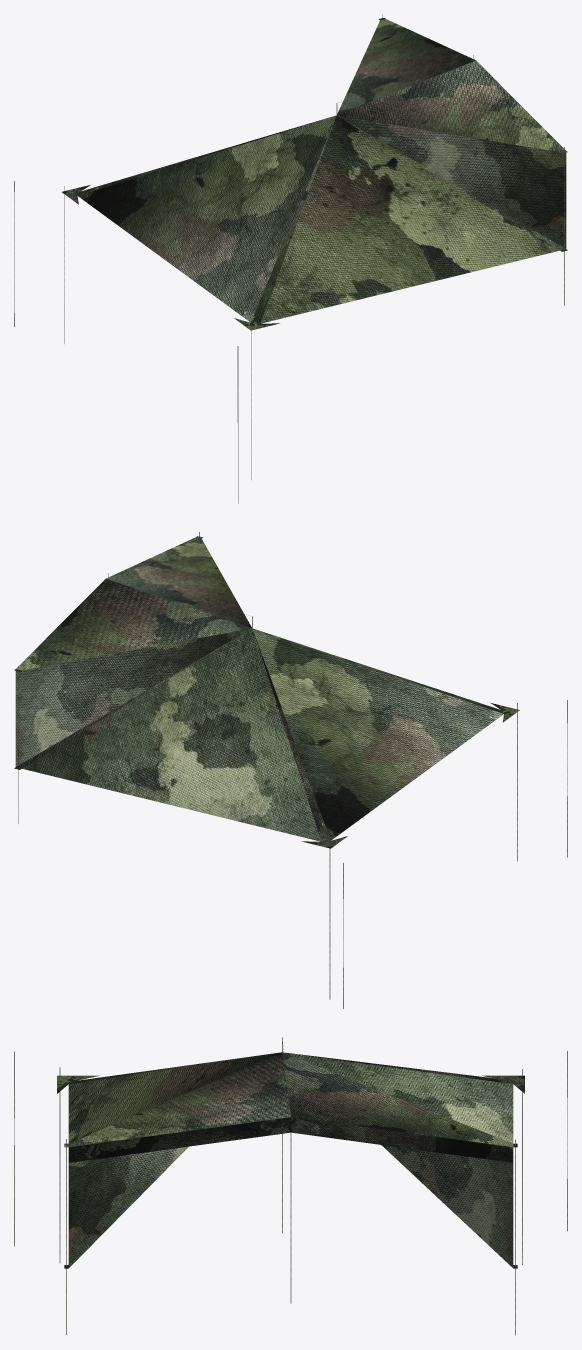
Rendered from tienda_campana.glb.
The picture shows the model from 3 angles, top to bottom: view 1: azimuth 30°, elevation 25°; view 2: azimuth 150°, elevation 25°; view 3: azimuth 270°, elevation 25°; orthographic projection. The views are drawn at different scales.
Parts seen in each view (by area): view 1: Cube_Material_0; view 2: Cube_Material_0; view 3: Cube_Material_0.
Boxes of the visible parts, box(x1,y1,x2,y2) form: Cube_Material_0: box(14, 14, 567, 503); Cube_Material_0: box(14, 532, 567, 1008); Cube_Material_0: box(14, 1037, 567, 1335).
Bounding box in the file's own units: 579 × 444 × 641.
Materials: 1 (1 with a texture image).
